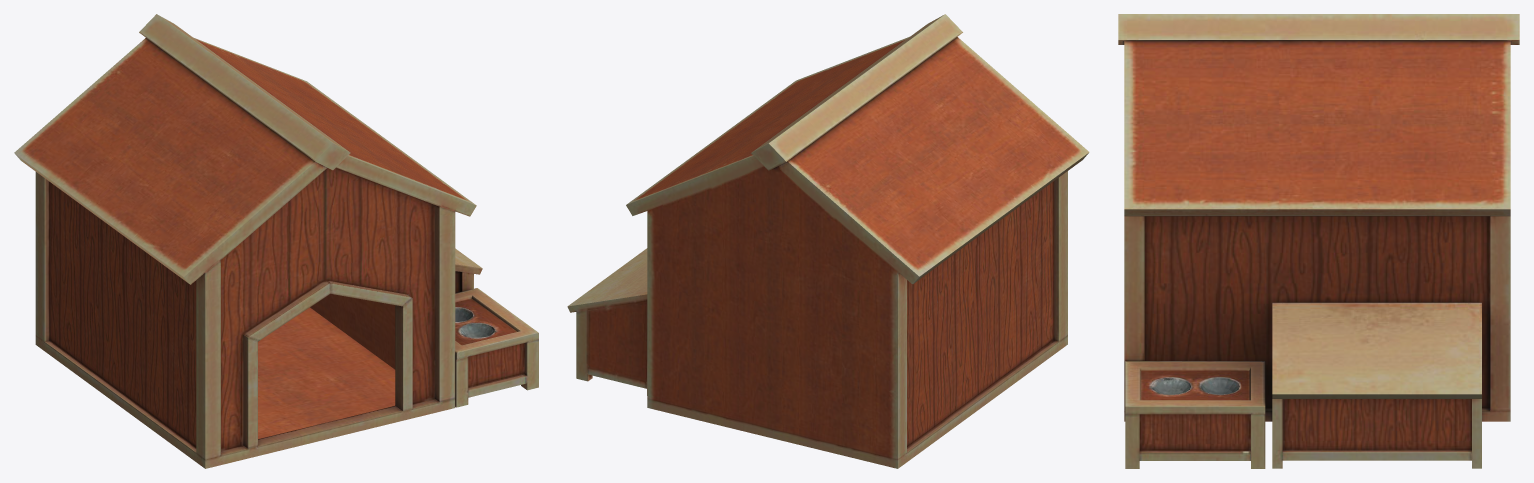
File: dog_house_1.FBX
3 views of the same model, side by side, from view 1: azimuth 30°, elevation 25°; view 2: azimuth 150°, elevation 25°; view 3: azimuth 270°, elevation 25° (orthographic). The views are drawn at different scales.
Visible parts, largest first — view 1: dog_house_1; view 2: dog_house_1; view 3: dog_house_1.
Boxes of the visible parts, x1,y1,x2,y2 form: dog_house_1: [14, 14, 538, 468]; dog_house_1: [567, 14, 1089, 468]; dog_house_1: [1118, 14, 1519, 468].
Size of the model in its own units: 193 by 151 by 162.
Materials: 1 (1 with a texture image).
